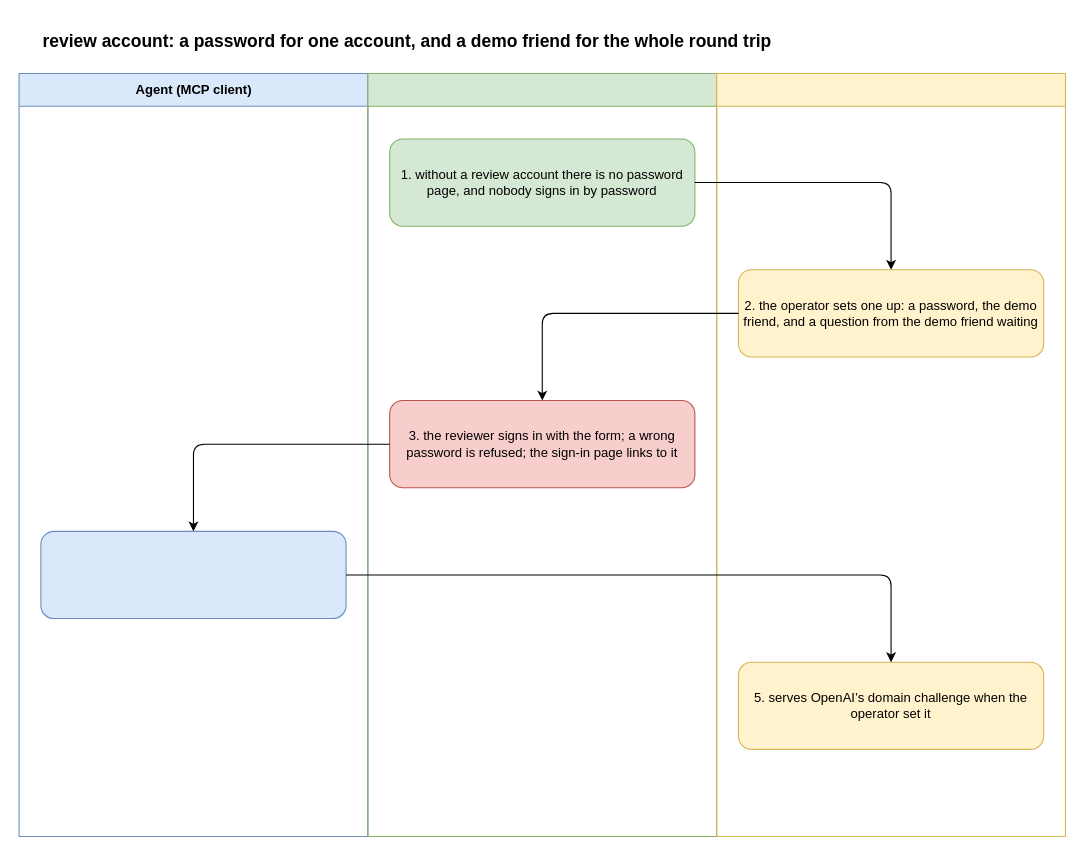
Some shapes in this 1085 by 856 pixel diagram are drawn without their labels. The box of each missing label's shape, as (x1, y1, x2, y2) in pixels:
4. asking the demo friend answers at once, back to the agent that asked: (40, 530, 346, 619)
Person (browser): (367, 72, 717, 837)
Relay: (716, 72, 1065, 837)
